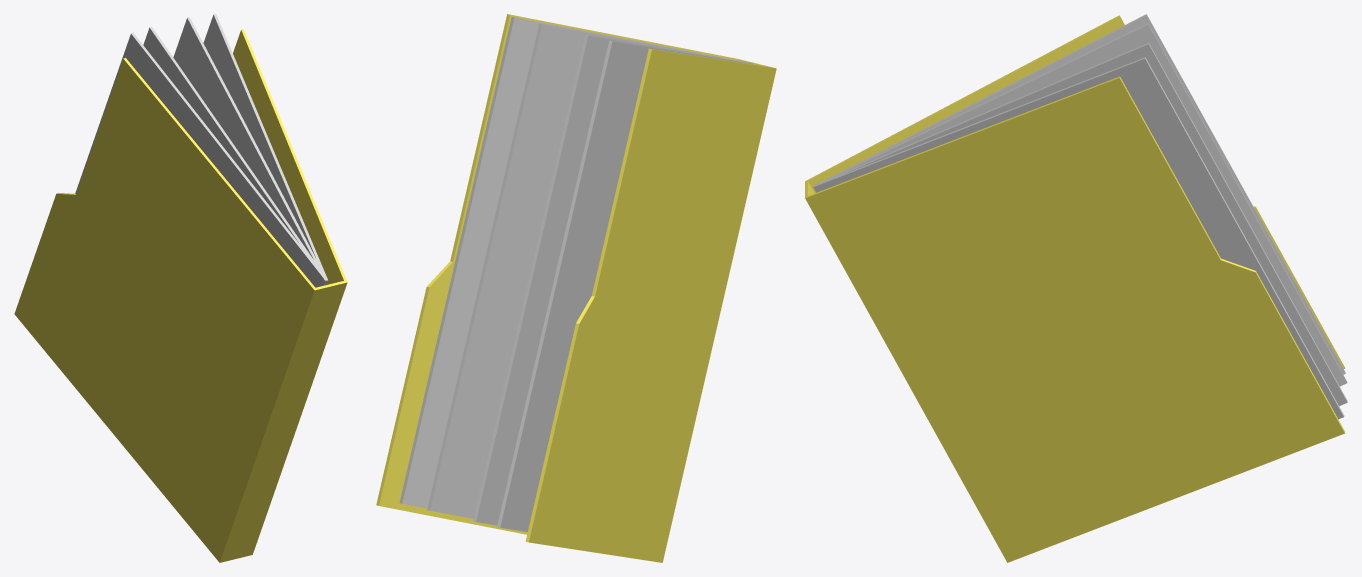
Rendered from folder.fbx.
The picture shows the model from 3 angles, left to right: view 1: azimuth 30°, elevation 25°; view 2: azimuth 150°, elevation 25°; view 3: azimuth 270°, elevation 25°; orthographic projection. The views are drawn at different scales.
Visible parts, largest first — view 1: Cube, Cube_1, Cube_3, Cube_4, Cube_2; view 2: Cube, Cube_3, Cube_1, Cube_4, Cube_2; view 3: Cube, Cube_4, Cube_2, Cube_3, Cube_1.
Part boxes in pixels (x1,y1,x2,y2): Cube: [14, 29, 347, 562]; Cube_1: [75, 32, 323, 287]; Cube_3: [173, 17, 326, 286]; Cube_4: [203, 14, 328, 285]; Cube_2: [143, 27, 326, 285]; Cube: [376, 14, 776, 562]; Cube_3: [427, 23, 753, 518]; Cube_1: [497, 40, 752, 531]; Cube_4: [399, 17, 744, 508]; Cube_2: [473, 34, 752, 525]; Cube: [805, 15, 1345, 562]; Cube_4: [813, 57, 1344, 419]; Cube_2: [825, 23, 1347, 386]; Cube_3: [827, 43, 1347, 405]; Cube_1: [814, 14, 1345, 374].
Size of the model in its own units: 10.42 by 38.28 by 36.16.
